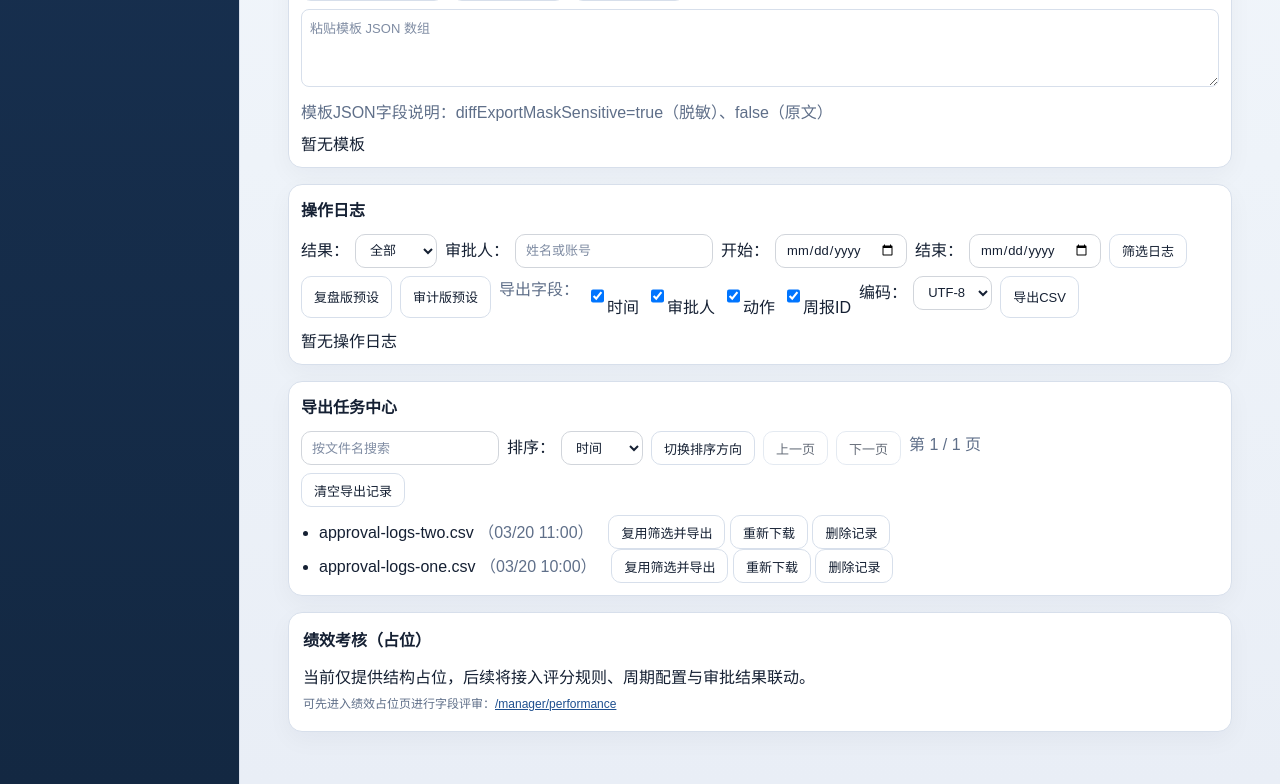
Test: ManagerReviewsPage › supports deleting one export history item and clearing all history
The width and height of the screenshot is (1280, 784).
(page scrolled)
Check: the text "approval-logs-one.csv" is shown, box [319,558,476,575]
Check: the text "approval-logs-two.csv" is shown, box [319,524,474,541]
Click the button with aria-label "删除记录-approval-logs-one.csv". click: [854, 566]
box: [815,549,893,583]
(page scrolled)
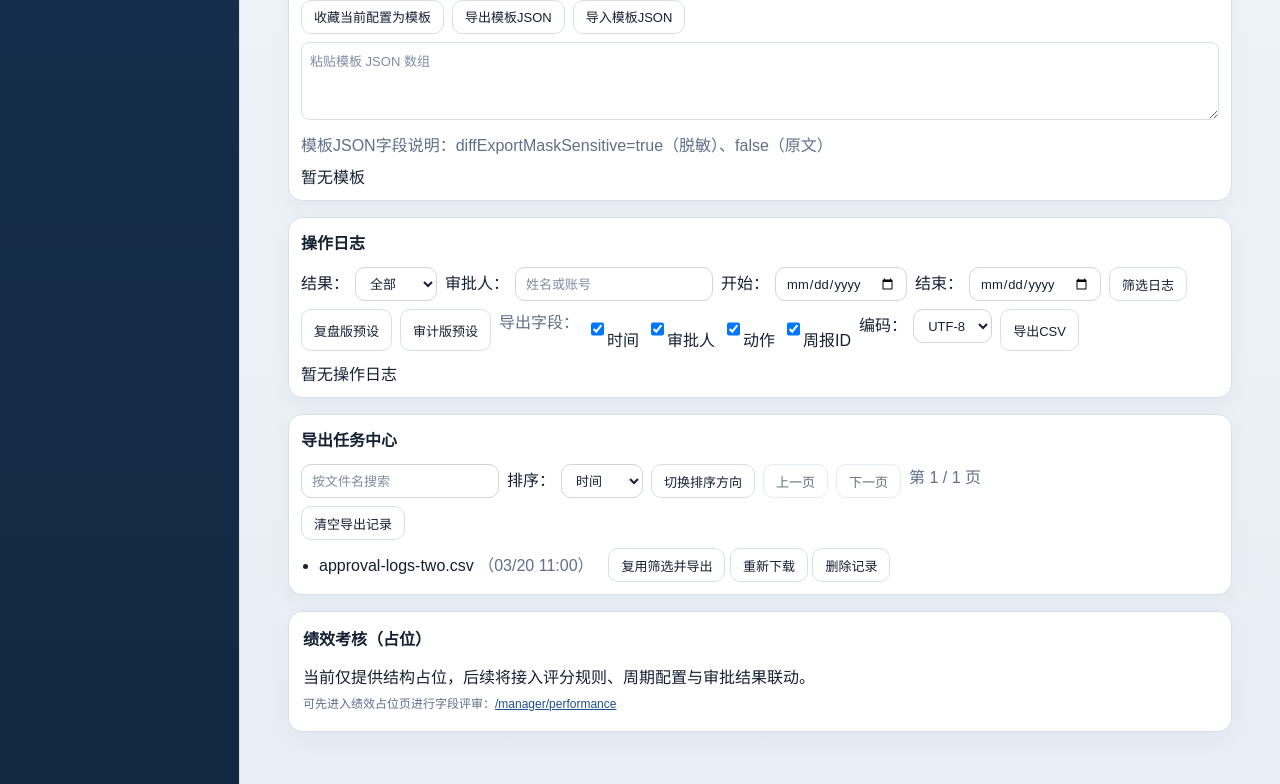
Check: the text "approval-logs-two.csv" is shown, box [319,557,474,574]
Check: the text "approval-logs-one.csv" is gone
Click the button "清空导出记录". click: [353, 523]
box: [301,506,405,540]
(page scrolled)
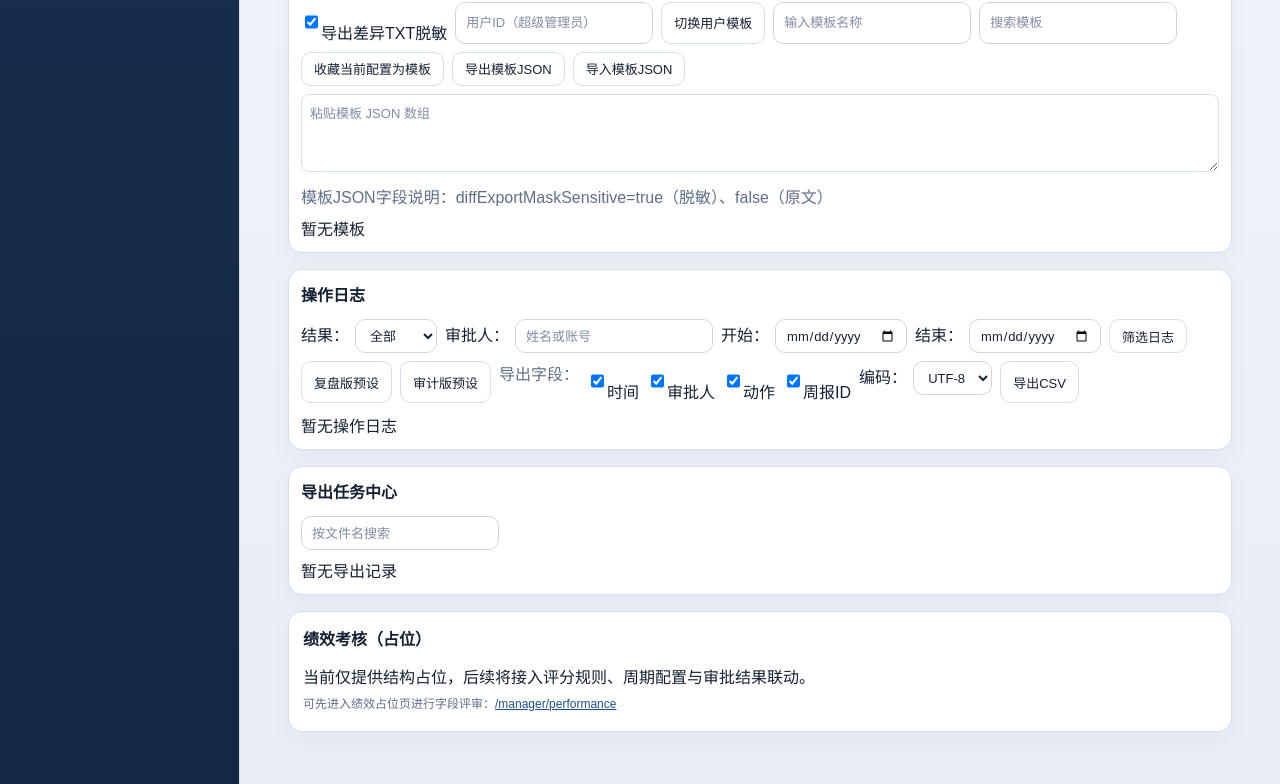
Check: the text "暂无导出记录" is shown, box [301,563,397,580]
